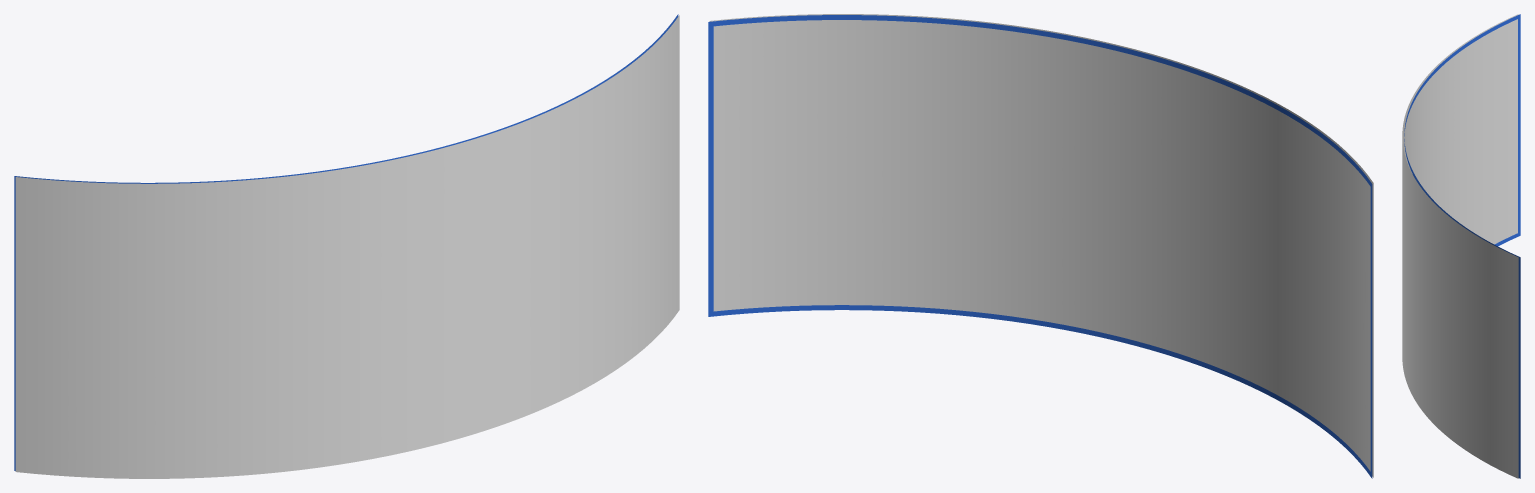
The model's file is ___panel_information.fbx.
3 views of the same model, side by side, from view 1: azimuth 30°, elevation 25°; view 2: azimuth 150°, elevation 25°; view 3: azimuth 270°, elevation 25° (orthographic). The views are drawn at different scales.
Visible parts, largest first — view 1: ___panel_information, ___frame; view 2: ___panel_information, ___frame; view 3: ___panel_information, ___frame.
Boxes of the visible parts, x1,y1,x2,y2 form: ___panel_information: (15,15,679,478); ___frame: (14,14,678,470); ___panel_information: (709,14,1373,477); ___frame: (708,15,1372,478); ___panel_information: (1402,14,1518,478); ___frame: (1404,14,1520,478).
Size of the model in its own units: 69.47 by 29.51 by 14.28.
